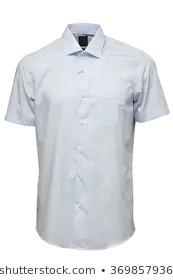C_shirt: (1, 27, 173, 249)
